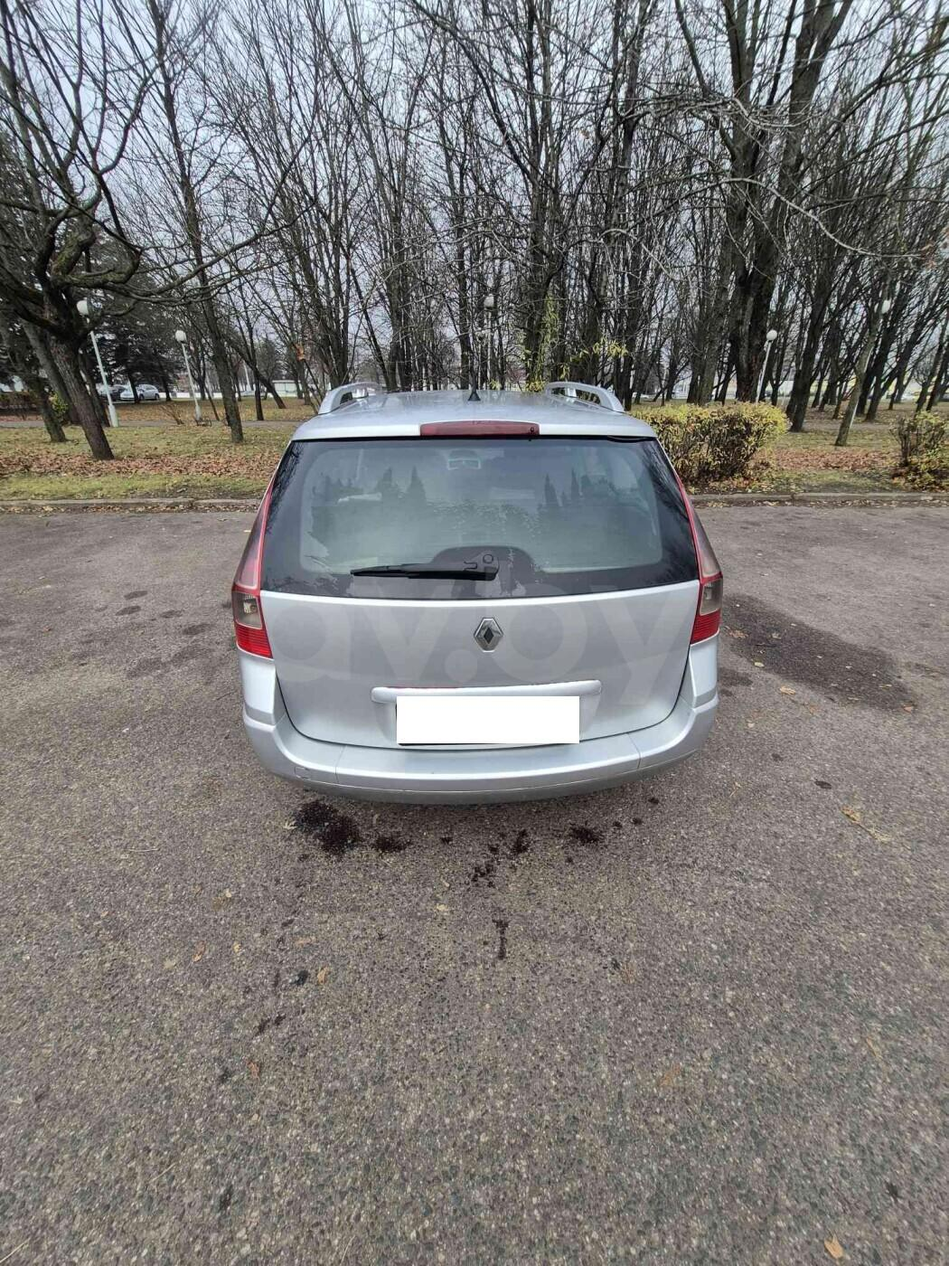Megane_2005-2009: (221, 380, 736, 816)
